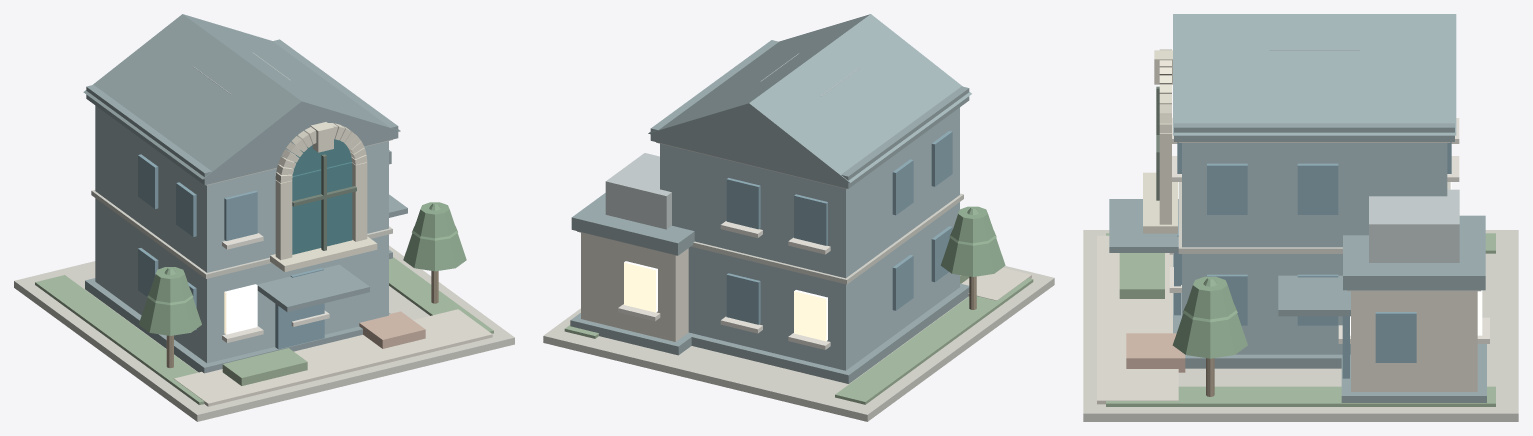
File: remaster_house_9.glb
3 views of the same model, side by side, from view 1: azimuth 30°, elevation 25°; view 2: azimuth 150°, elevation 25°; view 3: azimuth 270°, elevation 25° (orthographic). The views are drawn at different scales.
Parts seen in each view (by area): view 1: remaster_house_9 roof, remaster_house_9 blue, remaster_house_9 stone, remaster_house_9 green, remaster_house_9 cream, remaster_house_9 leaf, remaster_house_9 glass, Window glass.001, remaster_house_9 brick, Window sill.109, remaster_house_9 warm, Arched window pier L.001 (+6 smaller); view 2: remaster_house_9 roof, remaster_house_9 blue, remaster_house_9 stone, remaster_house_9 cream, remaster_house_9 glass, remaster_house_9 green, remaster_house_9 metal, remaster_house_9 leaf, remaster_house_9 warm, remaster_house_9 white; view 3: remaster_house_9 roof, remaster_house_9 blue, remaster_house_9 stone, remaster_house_9 cream, remaster_house_9 glass, remaster_house_9 green, remaster_house_9 metal, remaster_house_9 leaf, remaster_house_9 brick, Window sill.109, Arched window pier R.001, remaster_house_9 white.
Part boxes in pixels (x1,y1,x2,y2): remaster_house_9 roof: [83, 14, 407, 373]; remaster_house_9 blue: [95, 105, 388, 363]; remaster_house_9 stone: [14, 139, 514, 421]; remaster_house_9 green: [35, 257, 493, 404]; remaster_house_9 cream: [174, 309, 492, 406]; remaster_house_9 leaf: [138, 202, 466, 335]; remaster_house_9 glass: [138, 154, 324, 349]; Window glass.001: [292, 162, 352, 254]; remaster_house_9 brick: [359, 311, 425, 348]; Window sill.109: [270, 236, 377, 271]; remaster_house_9 warm: [224, 284, 257, 334]; Arched window pier L.001: [275, 180, 292, 260]; remaster_house_9 roof: [570, 14, 971, 383]; remaster_house_9 blue: [660, 107, 959, 370]; remaster_house_9 stone: [543, 142, 1054, 421]; remaster_house_9 cream: [581, 232, 1031, 341]; remaster_house_9 glass: [726, 131, 952, 324]; remaster_house_9 green: [564, 275, 1033, 404]; remaster_house_9 metal: [605, 53, 859, 229]; remaster_house_9 leaf: [940, 206, 1005, 276]; remaster_house_9 warm: [624, 261, 827, 341]; remaster_house_9 white: [618, 221, 830, 349]; remaster_house_9 roof: [1109, 14, 1486, 402]; remaster_house_9 blue: [1182, 143, 1447, 354]; remaster_house_9 stone: [1083, 142, 1518, 421]; remaster_house_9 cream: [1097, 235, 1477, 404]; remaster_house_9 glass: [1174, 142, 1451, 378]; remaster_house_9 green: [1106, 233, 1495, 406]; remaster_house_9 metal: [1269, 50, 1459, 262]; remaster_house_9 leaf: [1172, 276, 1247, 358]; remaster_house_9 brick: [1126, 333, 1185, 372]; Window sill.109: [1143, 172, 1177, 233]; Arched window pier R.001: [1159, 133, 1171, 224]; remaster_house_9 white: [1169, 118, 1489, 343].
Size of the model in its own units: 9.64 by 7.46 by 9.6.
